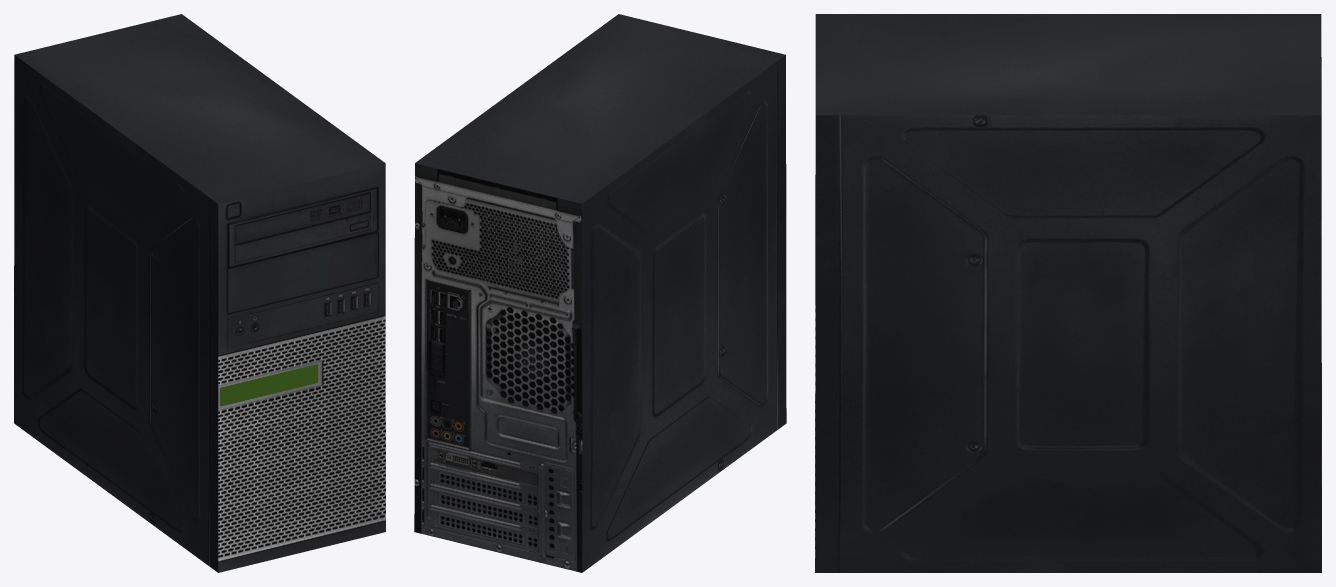
Rendered from Office_Computer_1.fbx.
The picture shows the model from 3 angles, left to right: view 1: azimuth 30°, elevation 25°; view 2: azimuth 150°, elevation 25°; view 3: azimuth 270°, elevation 25°; orthographic projection. The views are drawn at different scales.
Visible parts, largest first — view 1: Office_Computer_1, Office_Computer_1_Tray; view 2: Office_Computer_1; view 3: Office_Computer_1.
Part boxes in pixels (bbox=[...]): Office_Computer_1: bbox=[14, 14, 385, 572]; Office_Computer_1_Tray: bbox=[234, 192, 370, 244]; Office_Computer_1: bbox=[414, 14, 786, 572]; Office_Computer_1: bbox=[815, 14, 1321, 572].
Bounding box in the file's own units: 21.87 × 45.96 × 46.15.
